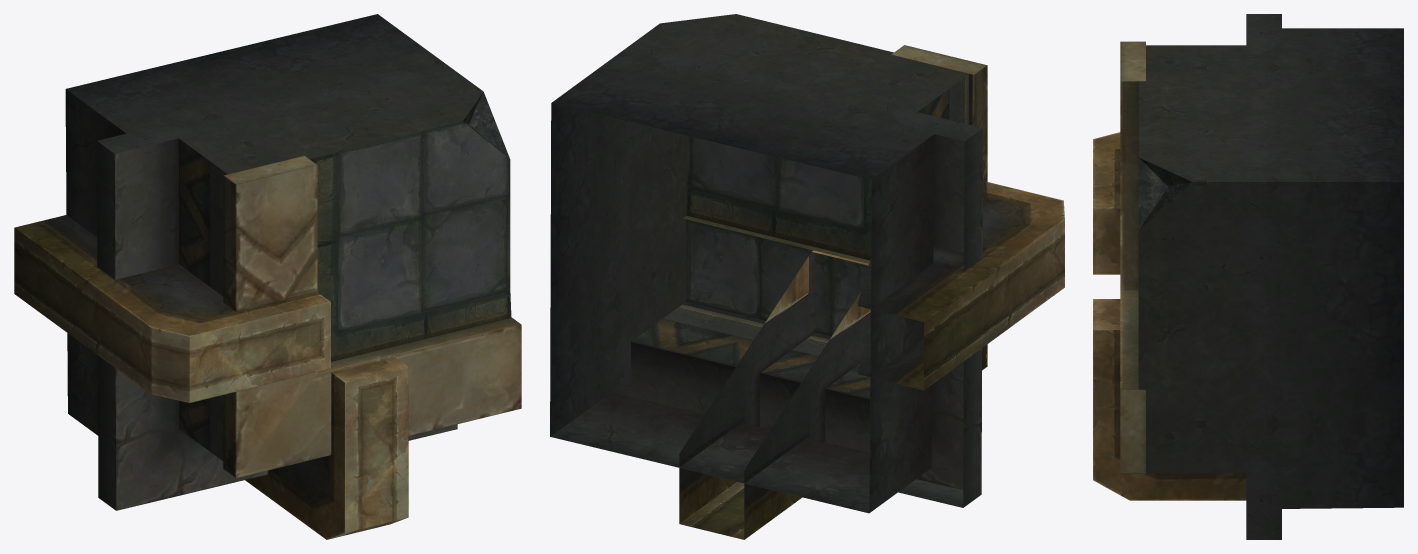
The model's file is juqing_fuben_376_build04.obj.
3 views of the same model, side by side, from view 1: azimuth 30°, elevation 25°; view 2: azimuth 150°, elevation 25°; view 3: azimuth 270°, elevation 25° (orthographic). The views are drawn at different scales.
Visible parts, largest first — view 1: juqing_fuben_376_build04; view 2: juqing_fuben_376_build04; view 3: juqing_fuben_376_build04.
Boxes of the visible parts, x1=… form: juqing_fuben_376_build04: x1=14, y1=14, x2=521, y2=539; juqing_fuben_376_build04: x1=550, y1=14, x2=1064, y2=539; juqing_fuben_376_build04: x1=1093, y1=14, x2=1403, y2=539.
Size of the model in its own units: 379 by 379 by 280.
5 materials, 5 textured.
